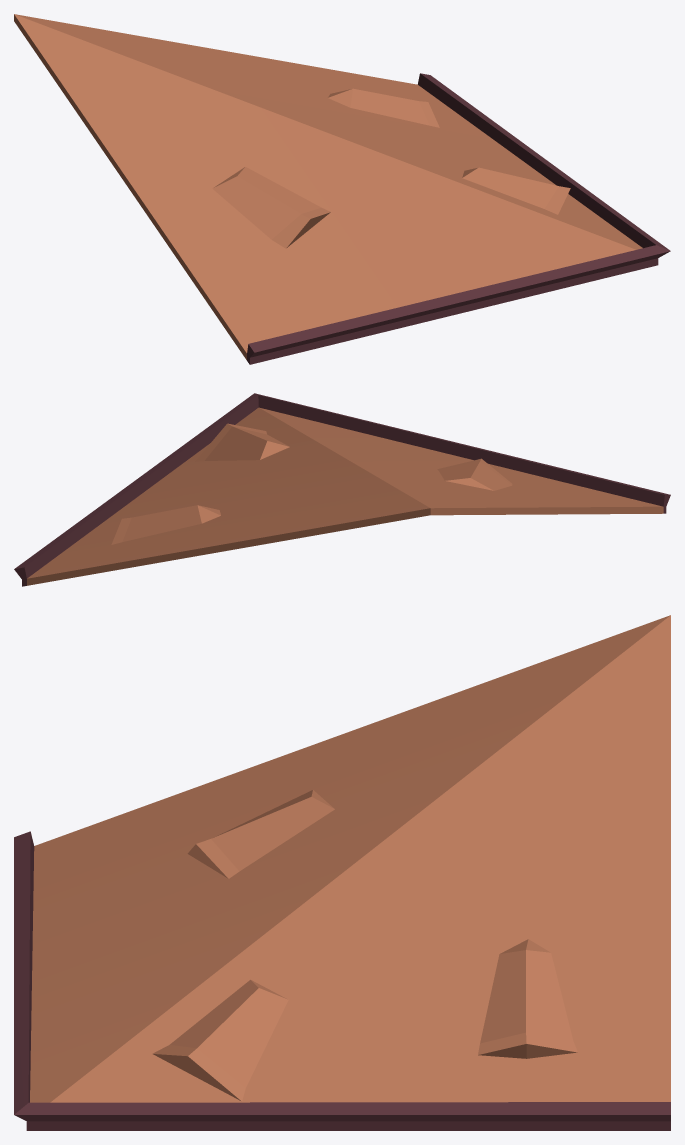
File: SM_Roof_Out_Edge_Big_3m_Rim_Empire.fbx
3 views of the same model, one above another, from view 1: azimuth 30°, elevation 25°; view 2: azimuth 150°, elevation 25°; view 3: azimuth 270°, elevation 25° (orthographic). The views are drawn at different scales.
Parts seen in each view (by area): view 1: SM_Roof_Out_Edge_Big_3m_Rim_Empire; view 2: SM_Roof_Out_Edge_Big_3m_Rim_Empire; view 3: SM_Roof_Out_Edge_Big_3m_Rim_Empire.
Boxes of the visible parts, box(x1,y1,x2,y2) form: SM_Roof_Out_Edge_Big_3m_Rim_Empire: box(14, 14, 670, 364); SM_Roof_Out_Edge_Big_3m_Rim_Empire: box(14, 393, 670, 586); SM_Roof_Out_Edge_Big_3m_Rim_Empire: box(14, 615, 670, 1130).
Bounding box in the file's own units: 3.06 × 1.25 × 3.06.
